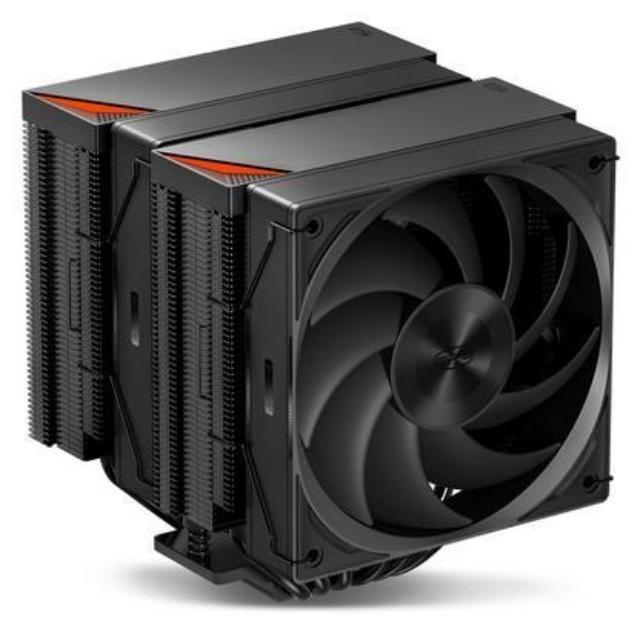CPU_Fan: (17, 19, 614, 606)
